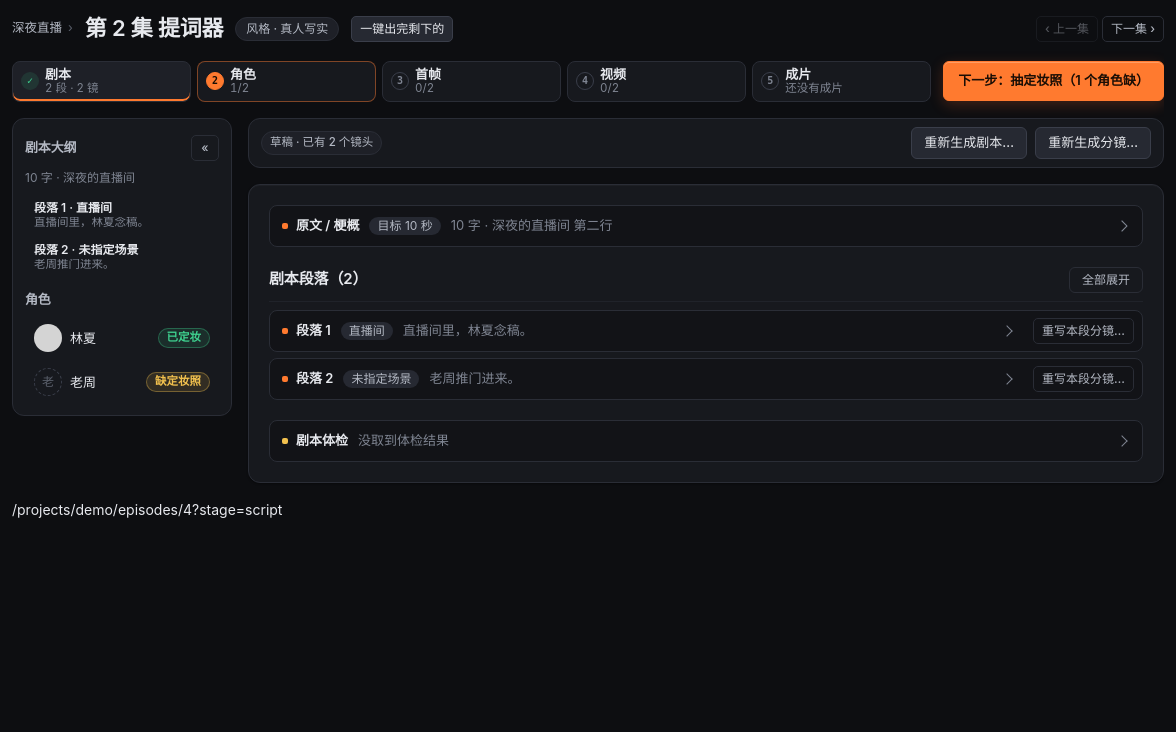
Scenario: EpisodeWorkspace › 「下一步」是全页唯一的主按钮；下一步在别的阶段时点它切过去
The image size is (1176, 732).
Click the button "下一步：抽定妆照（1 个角色缺）": (1054, 81) x1=943 y1=61 x2=1164 y2=101
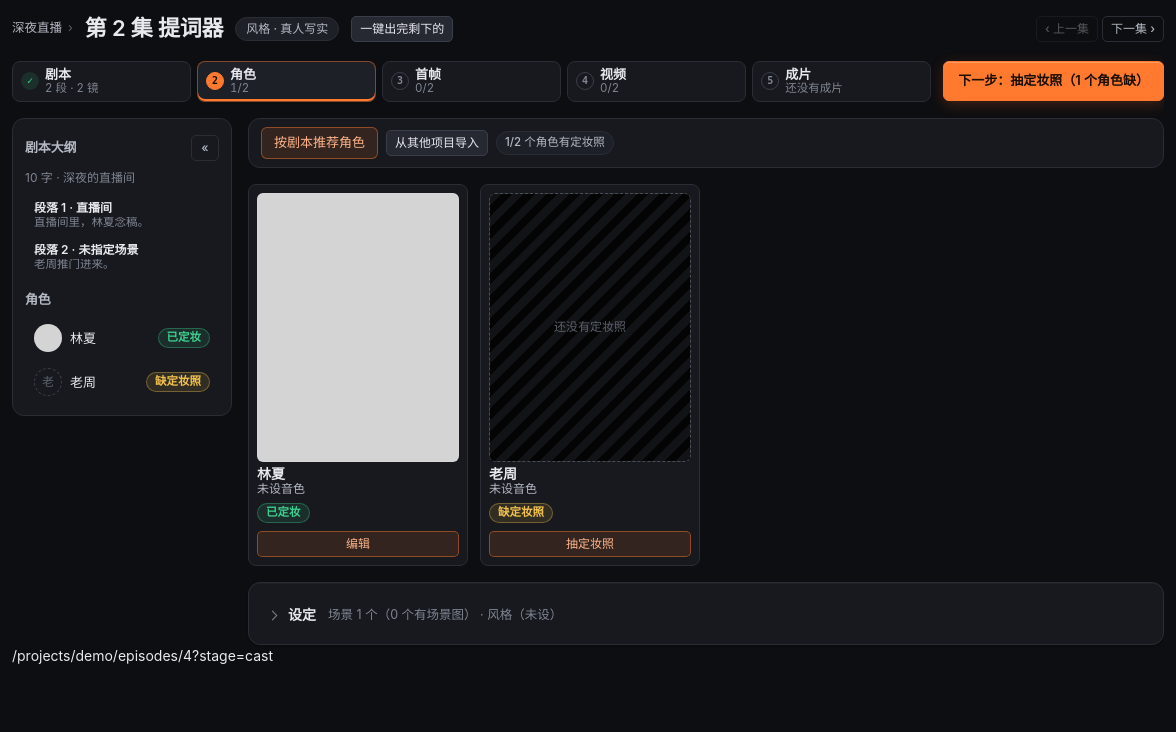
Check: the text with test id "location" reads "/projects/demo/episodes/4?stage=cast", box x1=12 y1=647 x2=273 y2=664
Check: the element with test id "character-9" is shown, box x1=480 y1=184 x2=700 y2=566
